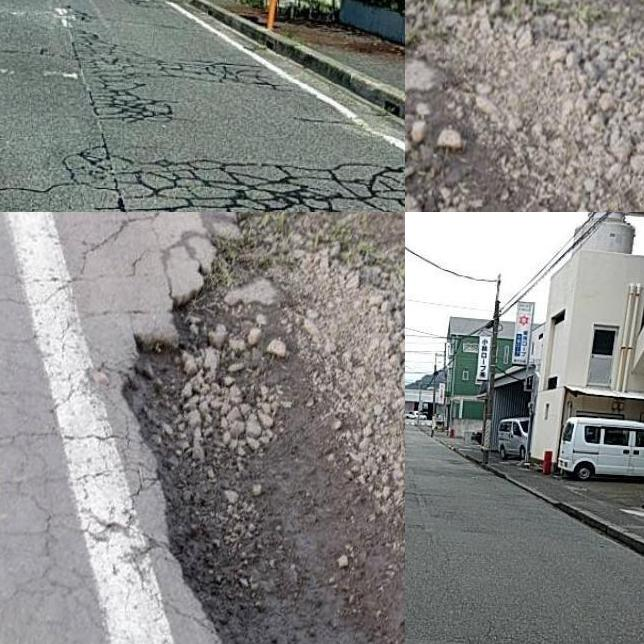Pinggir: (105, 212, 405, 644), (405, 0, 609, 212)
Retak Buaya: (108, 162, 405, 212)
